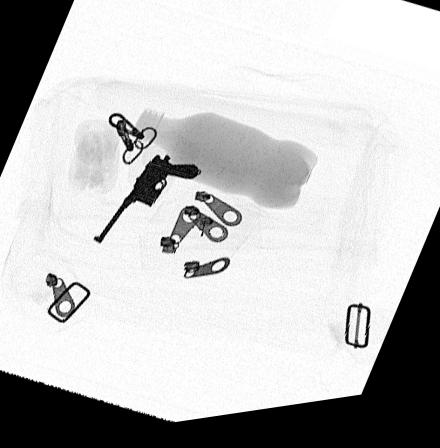Gun: (91, 159, 201, 247)
